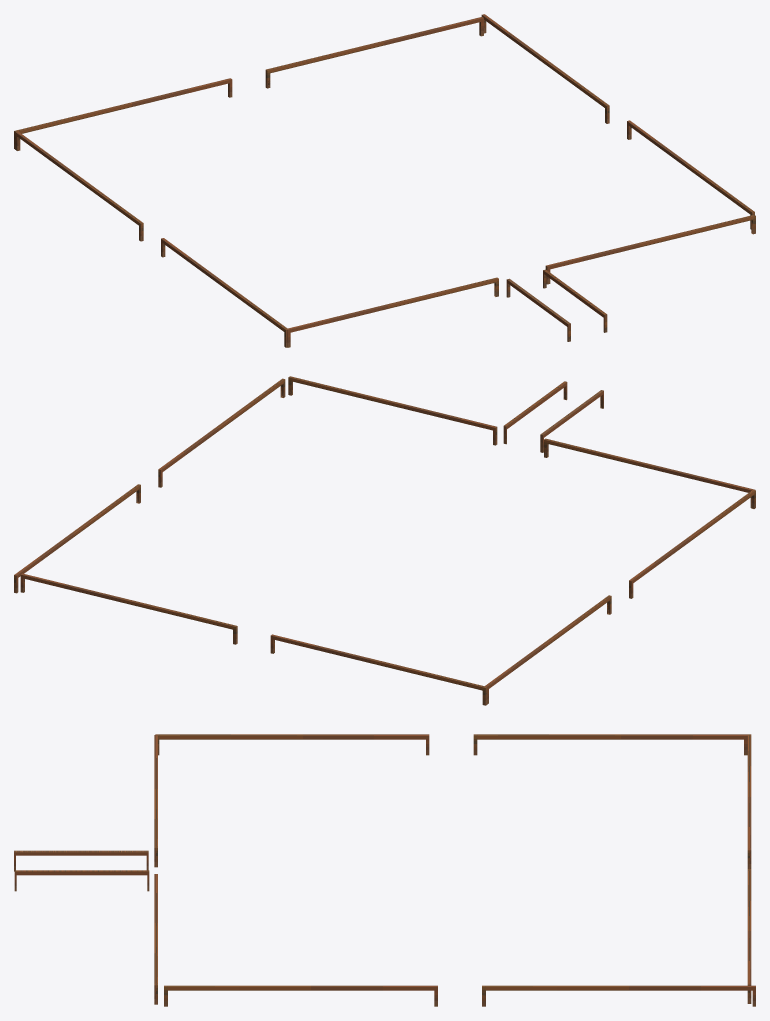
Rendered from guardrail_001.fbx.
3 renders of one model, top to bottom at view 1: azimuth 30°, elevation 25°; view 2: azimuth 150°, elevation 25°; view 3: azimuth 270°, elevation 25°, orthographic. The views are drawn at different scales.
Parts seen in each view (by area): view 1: guardrail.001; view 2: guardrail.001; view 3: guardrail.001.
Part boxes in pixels (x1,y1,x2,y2): guardrail.001: (14,14,755,347); guardrail.001: (14,376,755,705); guardrail.001: (14,734,755,1006).
Size of the model in its own units: 5563 by 200 by 6904.
Materials: 1 (1 with a texture image).
